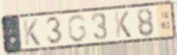3: (90, 11, 109, 42), (45, 15, 64, 46)
8: (136, 7, 156, 39)
G: (66, 14, 88, 44)
K: (113, 10, 133, 39), (22, 18, 42, 47)
